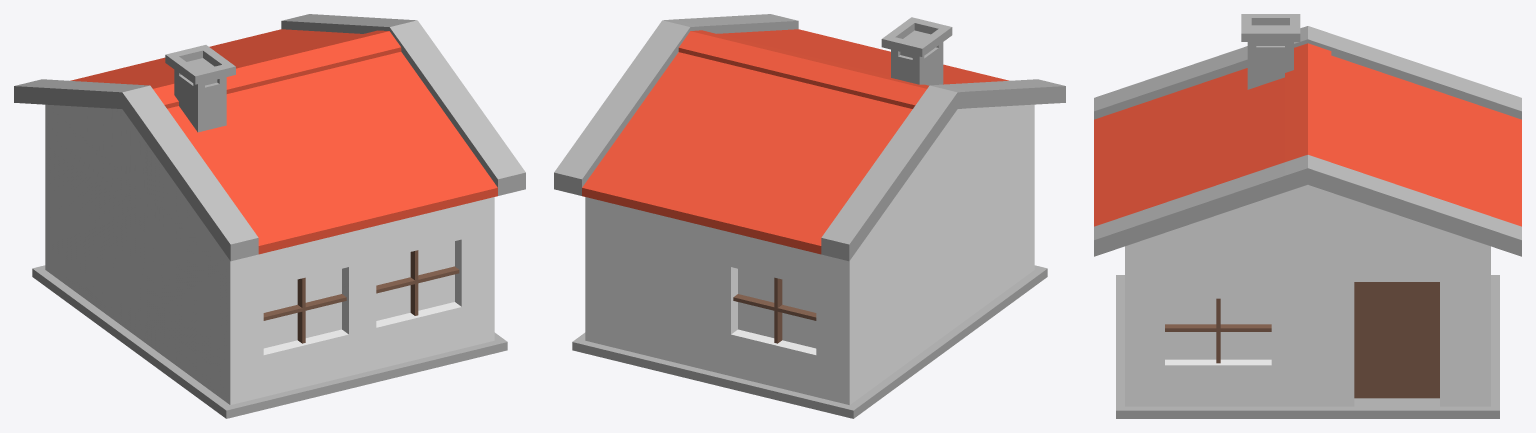
File: building4.glb
3 views of the same model, side by side, from view 1: azimuth 30°, elevation 25°; view 2: azimuth 150°, elevation 25°; view 3: azimuth 270°, elevation 25° (orthographic).
Visible parts, largest first — view 1: Building_02; view 2: Building_02; view 3: Building_02.
Part boxes in pixels (bbox=[...]): Building_02: bbox=[14, 14, 525, 418]; Building_02: bbox=[554, 14, 1065, 418]; Building_02: bbox=[1094, 14, 1521, 418].
Bounding box in the file's own units: 2.21 × 2.06 × 2.81.
